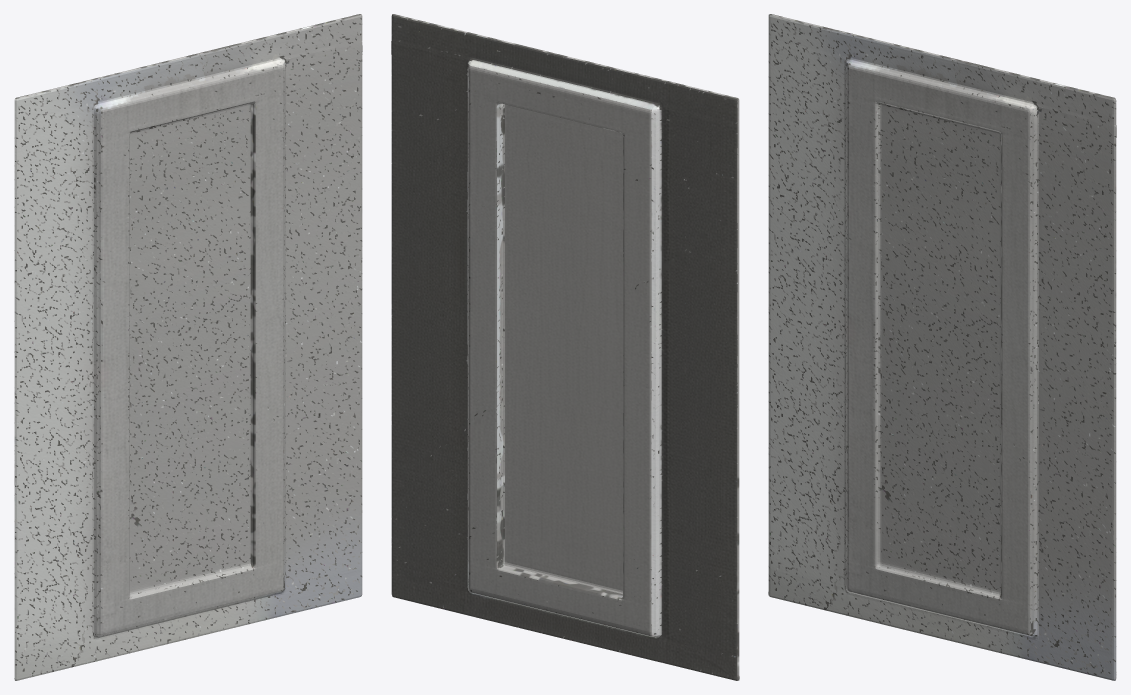
Rendered from simple-standing-hanging-bedroom-without.glb.
3 views of the same model, side by side, from view 1: azimuth 30°, elevation 25°; view 2: azimuth 150°, elevation 25°; view 3: azimuth 330°, elevation 25° (orthographic).
Visible parts, largest first — view 1: world; view 2: world; view 3: world.
Boxes of the visible parts, box(x1,y1,x2,y2) form: world: box(14, 14, 362, 680); world: box(391, 14, 739, 680); world: box(768, 14, 1116, 680).
Bounding box in the file's own units: 1.24 × 1.99 × 0.0604.
Materials: 1 (1 with a texture image).
